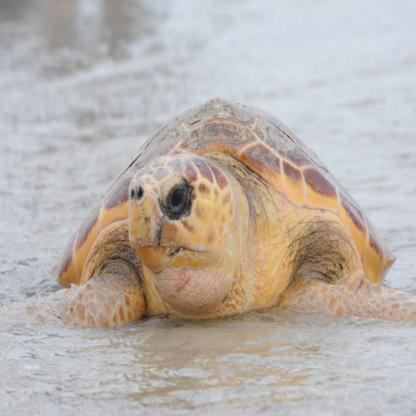turtle: (126, 145, 253, 325)
